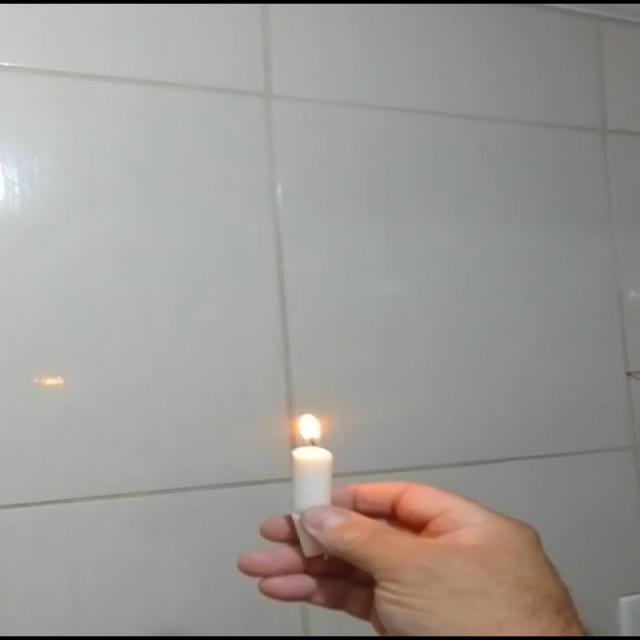fogo-ypXI: (293, 411, 326, 446)
